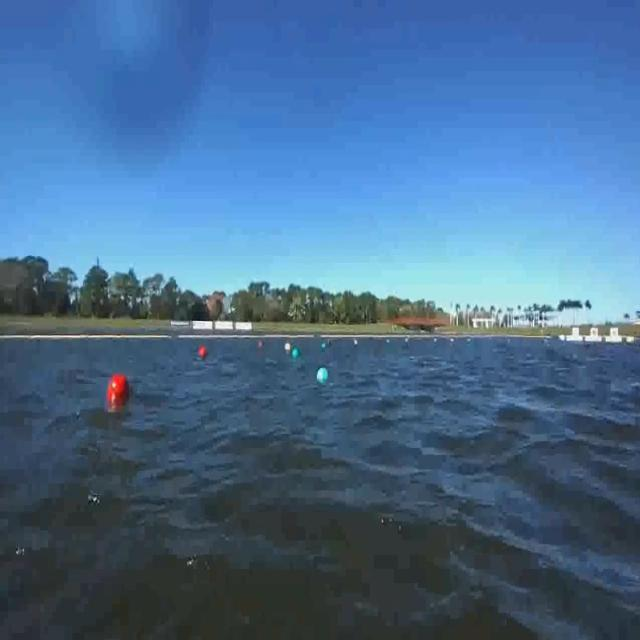green-buoy: (316, 367, 328, 384), (292, 345, 300, 364)
red-buoy: (109, 374, 132, 401), (198, 344, 208, 361), (257, 336, 265, 351)
